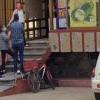stairs: (6, 40, 50, 71)
